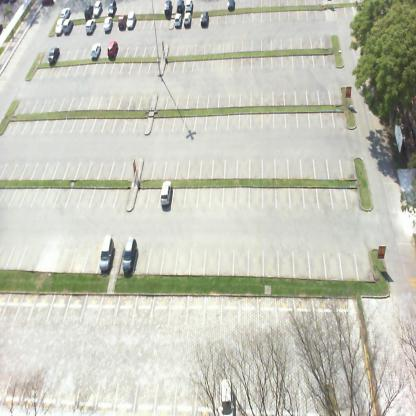car: (218, 374, 234, 414), (156, 178, 172, 211), (96, 244, 113, 274), (118, 242, 134, 272), (47, 44, 60, 66), (126, 11, 137, 32), (90, 42, 102, 61), (107, 39, 118, 59), (54, 18, 65, 37), (62, 18, 74, 35), (200, 8, 209, 30), (85, 18, 96, 34), (118, 13, 127, 31), (103, 16, 113, 32), (93, 0, 103, 16), (107, 0, 118, 14), (84, 3, 94, 18), (173, 12, 182, 28), (184, 10, 192, 28), (163, 0, 172, 15), (59, 7, 71, 18), (175, 1, 185, 12), (227, 1, 235, 12), (186, 0, 192, 13)
